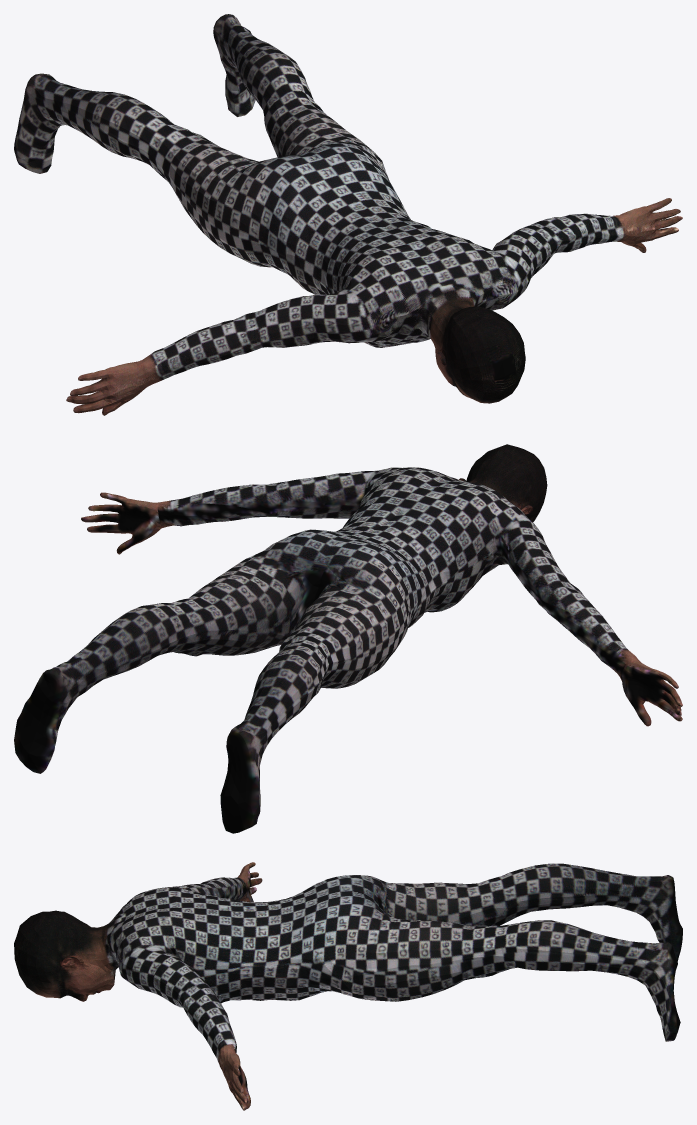
The model's file is Katey.obj.
The picture shows the model from 3 angles, top to bottom: view 1: azimuth 30°, elevation 25°; view 2: azimuth 150°, elevation 25°; view 3: azimuth 270°, elevation 25°; orthographic projection. The views are drawn at different scales.
Bounding box in the file's own units: 1512 × 378 × 1653.
